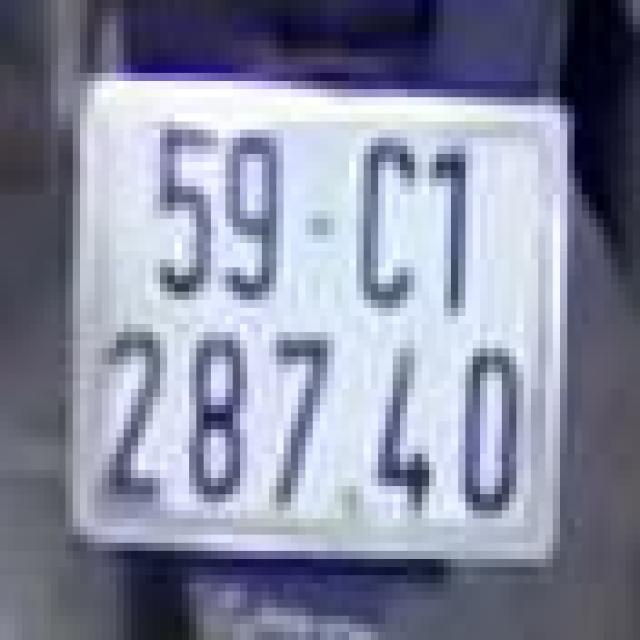0: (436, 316, 531, 535)
1: (429, 134, 480, 328)
2: (91, 304, 171, 522)
4: (364, 328, 436, 539)
5: (134, 101, 222, 296)
7: (262, 312, 334, 522)
8: (167, 304, 255, 530)
9: (222, 89, 294, 308)
C: (342, 126, 429, 320)
